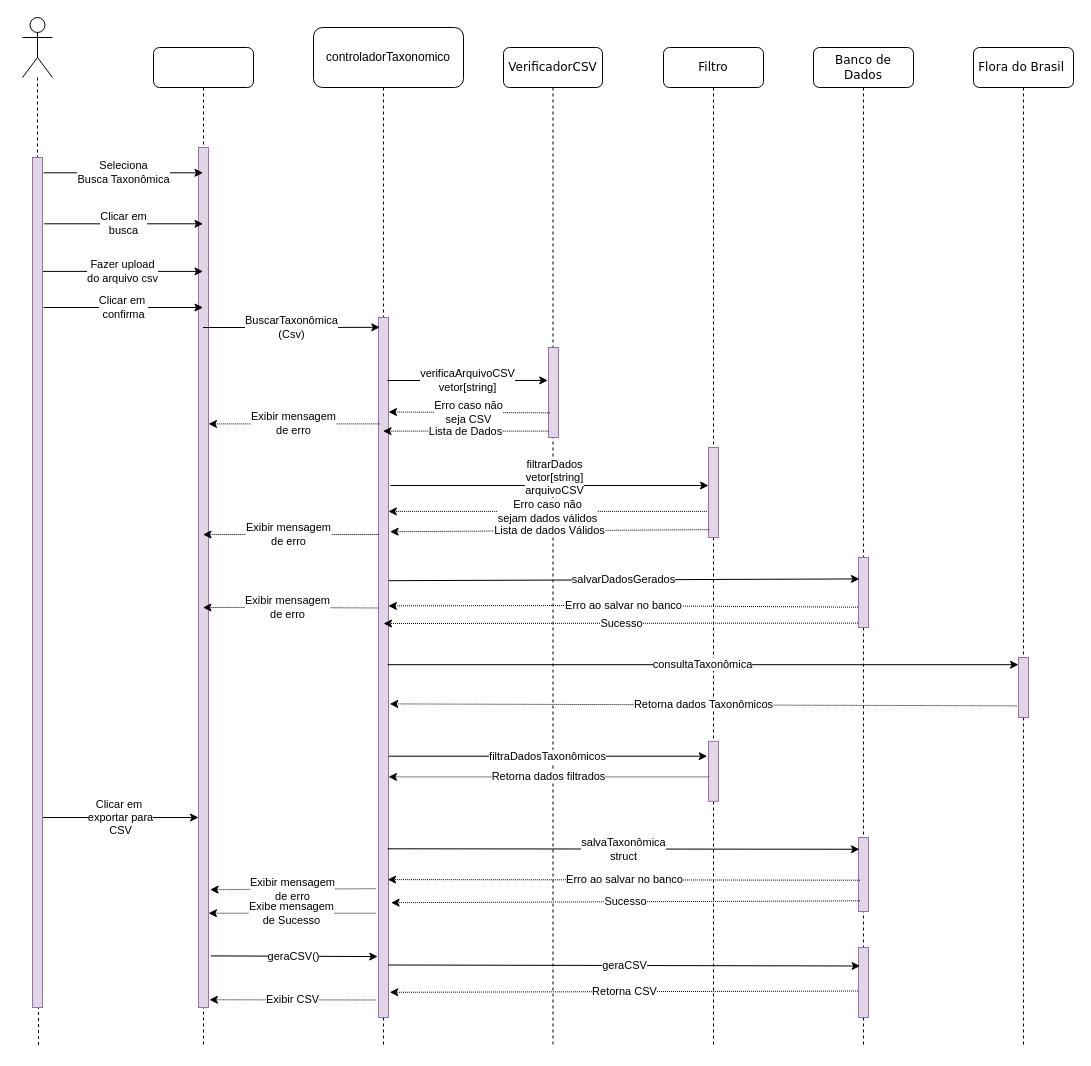
This 1091x1066 diagram has some shape labels left out. Here are the shapes that lost their labels. From the top down, the box of each, then its label:
(22, 16, 52, 78): Usuário
(152, 46, 254, 1048): Tela
